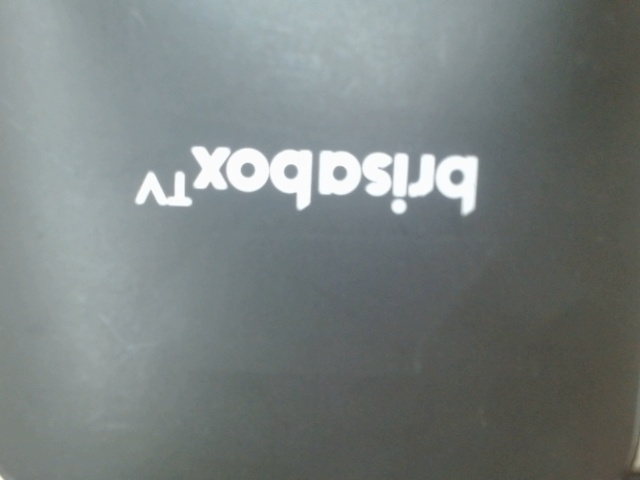AH_brisabox: (125, 135, 487, 232)
